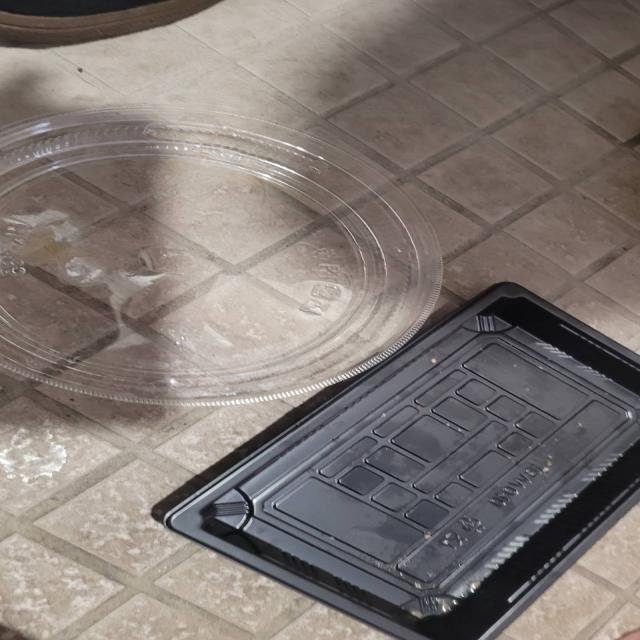Plastic: (150, 252, 640, 634), (0, 90, 467, 409)
